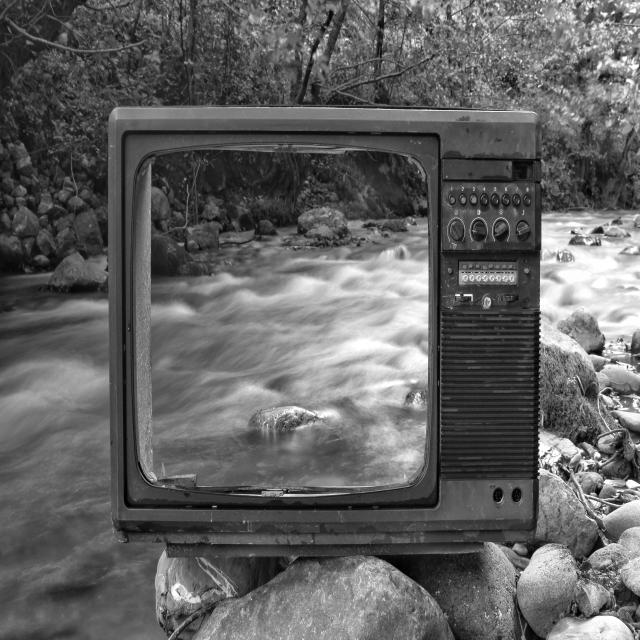metal: (448, 127, 538, 401)
